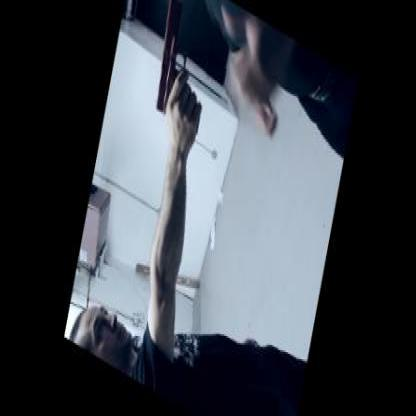pistol: (147, 0, 219, 137)
